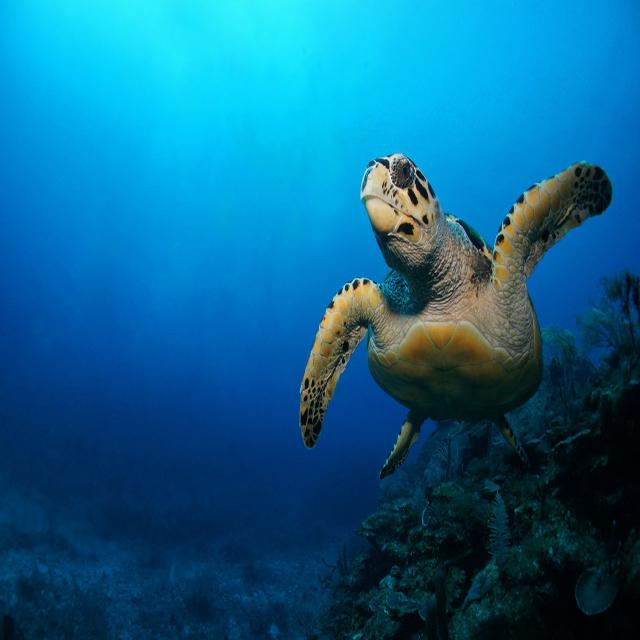turtle: (290, 147, 556, 481)
